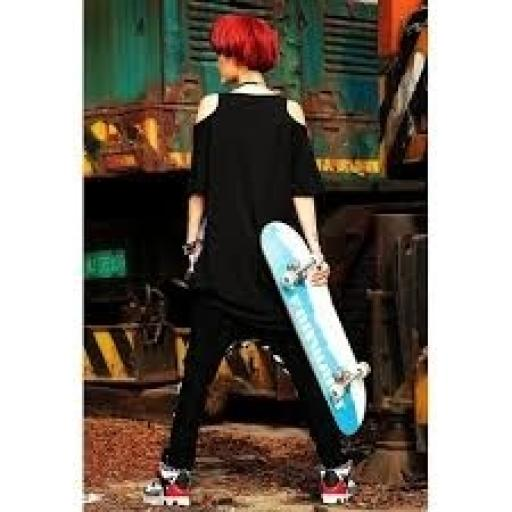dancing: (141, 11, 364, 510)
